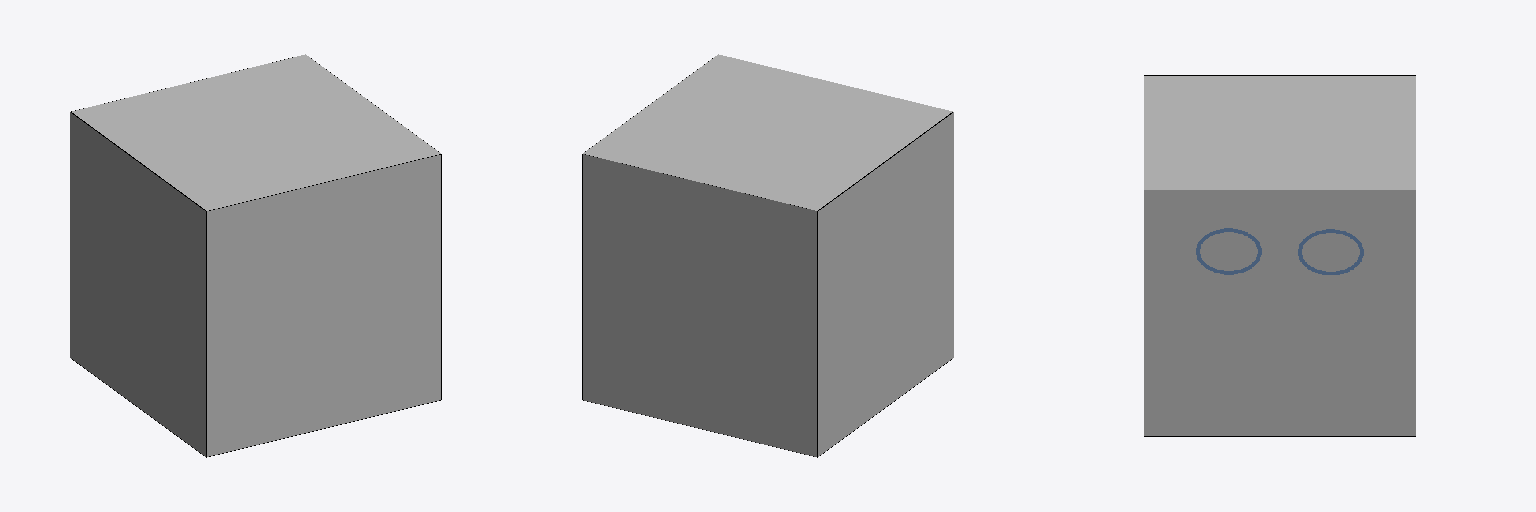
3 renders of one model, left to right at view 1: azimuth 30°, elevation 25°; view 2: azimuth 150°, elevation 25°; view 3: azimuth 270°, elevation 25°, orthographic.
Visible parts, largest first — view 1: head_Cube.003; view 2: head_Cube.003; view 3: head_Cube.003.
Part boxes in pixels (left/top/right/bottom): head_Cube.003: left=70, top=54, right=441, bottom=457; head_Cube.003: left=582, top=54, right=953, bottom=457; head_Cube.003: left=1144, top=75, right=1415, bottom=436.
Size of the model in its own units: 0.228 by 0.228 by 0.228.
1 materials, 1 textured.